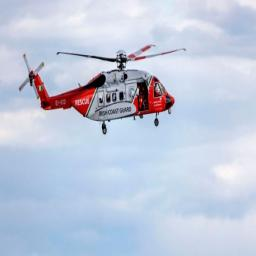helicopter: (14, 39, 189, 139)
